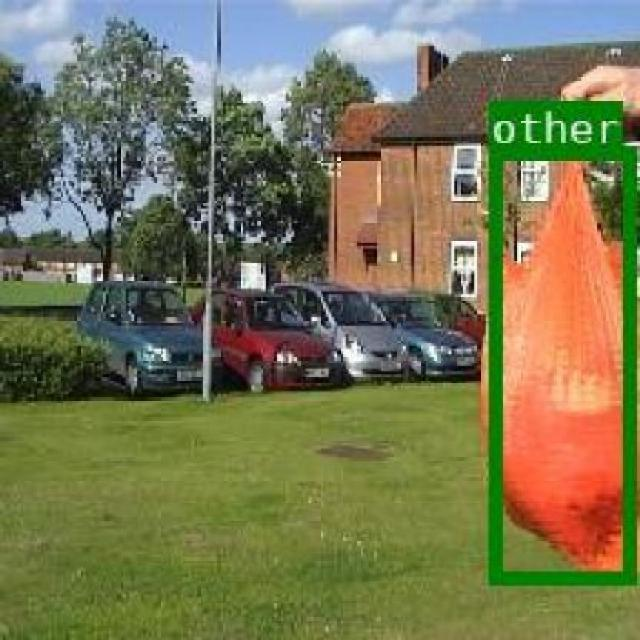other: (487, 145, 633, 582)
